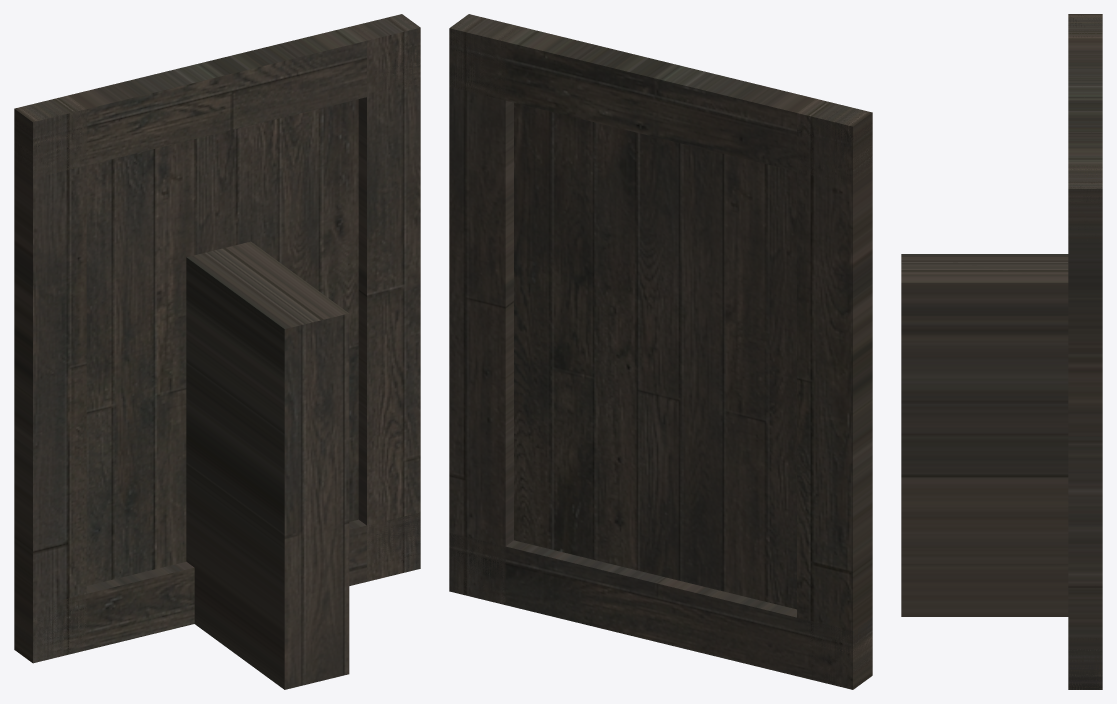
Rendered from SM_Prop_PhotoFrame_01.glb.
3 renders of one model, left to right at view 1: azimuth 30°, elevation 25°; view 2: azimuth 150°, elevation 25°; view 3: azimuth 270°, elevation 25°, orthographic. The views are drawn at different scales.
Parts seen in each view (by area): view 1: SM_Prop_PhotoFrame_01; view 2: SM_Prop_PhotoFrame_01; view 3: SM_Prop_PhotoFrame_01.
Part boxes in pixels (left/top/right/bottom): SM_Prop_PhotoFrame_01: left=14, top=14, right=420, bottom=689; SM_Prop_PhotoFrame_01: left=449, top=14, right=872, bottom=689; SM_Prop_PhotoFrame_01: left=901, top=14, right=1102, bottom=689.
Bounding box in the file's own units: 0.18 × 0.24 × 0.0875.
1 material, 1 textured.
